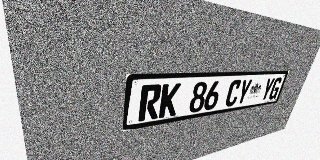6: (203, 81, 223, 111)
8: (188, 81, 209, 113)
C: (224, 79, 242, 107)
G: (268, 77, 283, 100)
K: (158, 83, 181, 118)
R: (138, 84, 162, 122)
Y: (235, 79, 253, 105), (259, 78, 276, 101)
